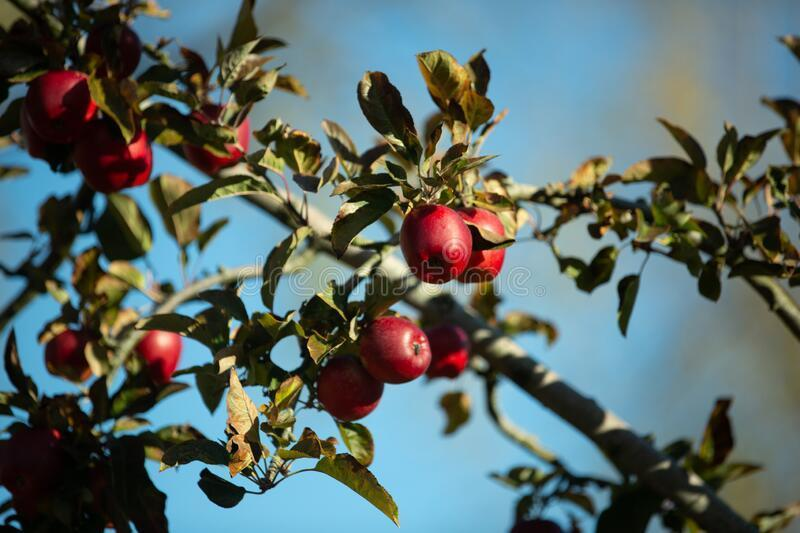apple: (403, 203, 471, 284), (358, 317, 430, 386), (316, 354, 383, 421), (456, 207, 505, 283)
